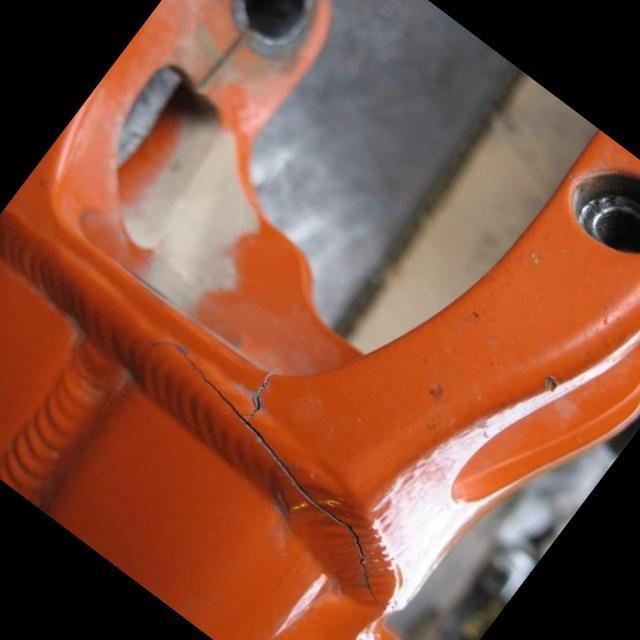defect: (147, 338, 395, 607)
